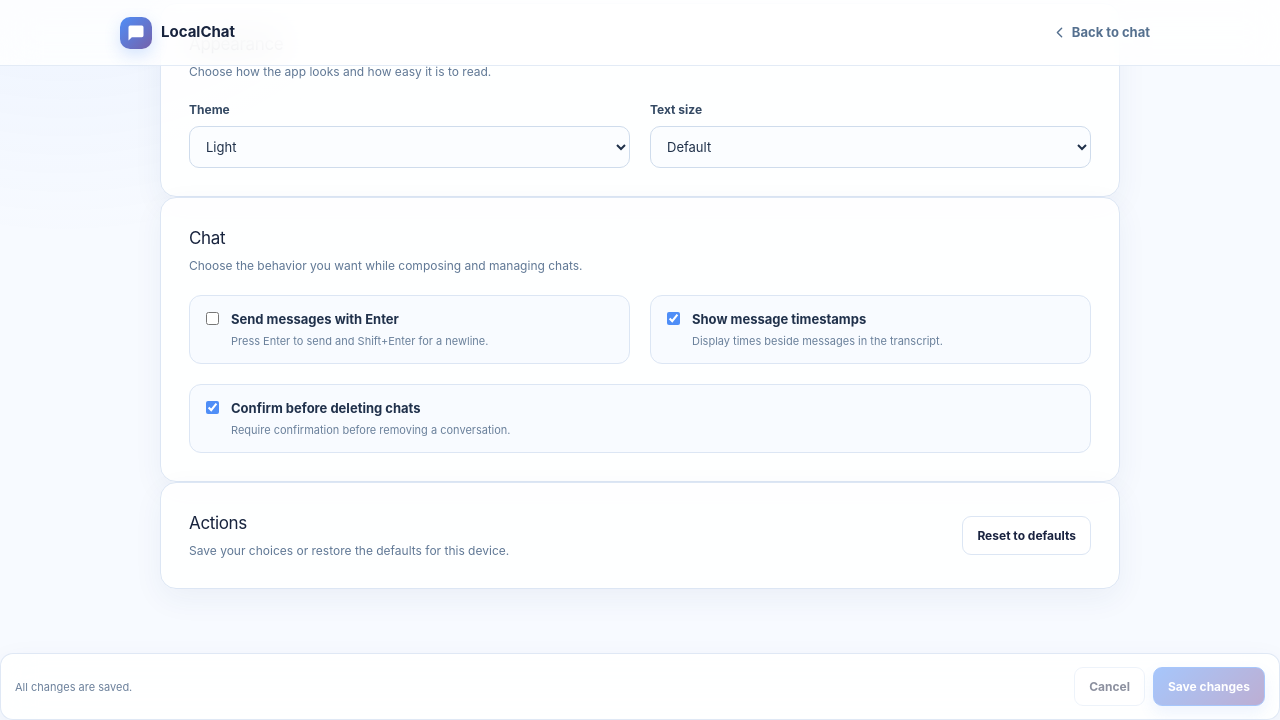
Test: SettingsPage › requires confirmation before resetting saved settings
(page scrolled)
Click the button "Reset to defaults" at {"x": 1027, "y": 536}, box top-left (962, 516), bottom-right (1091, 555)
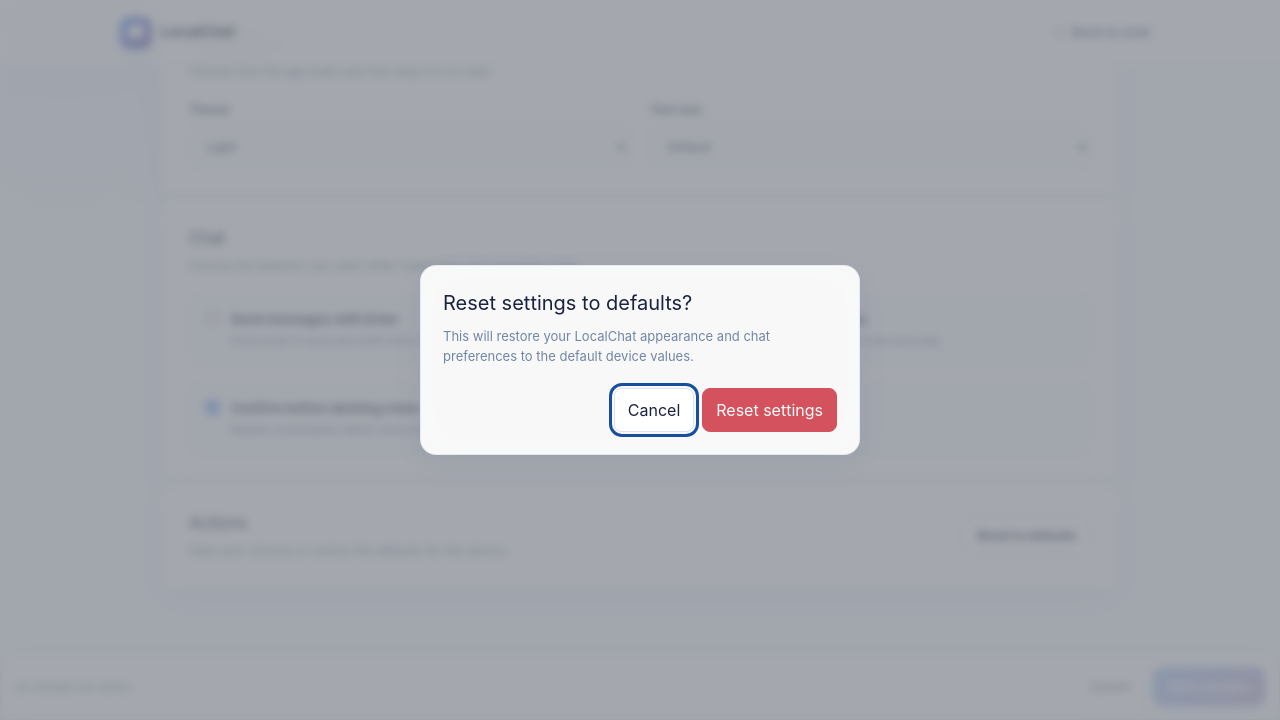
Expected: the dialog "Reset settings to defaults?" is shown, top-left (420, 265), bottom-right (860, 455)
Click the button "Reset settings" at {"x": 770, "y": 410}, box top-left (702, 388), bottom-right (837, 432)
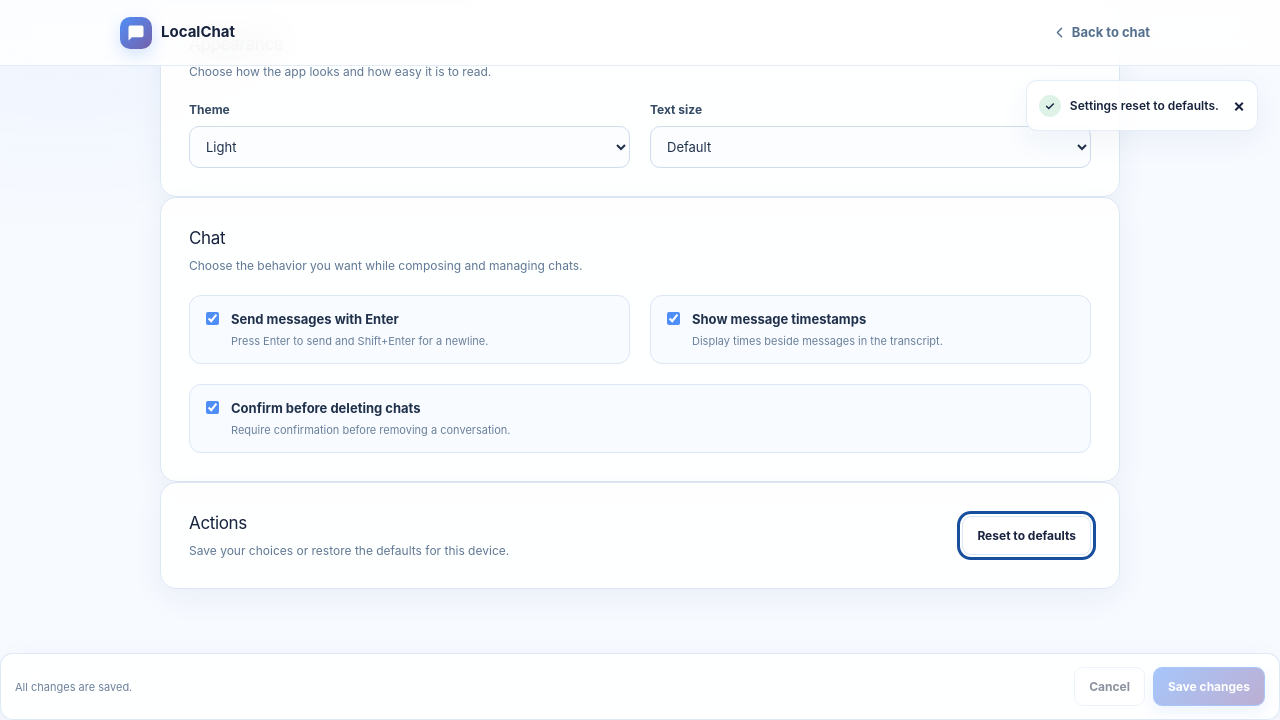
Expected: the checkbox labelled "Send messages with Enter" is checked, top-left (206, 312), bottom-right (219, 325)
Expected: the message shows "Settings reset to defaults.", top-left (1070, 98), bottom-right (1219, 112)
